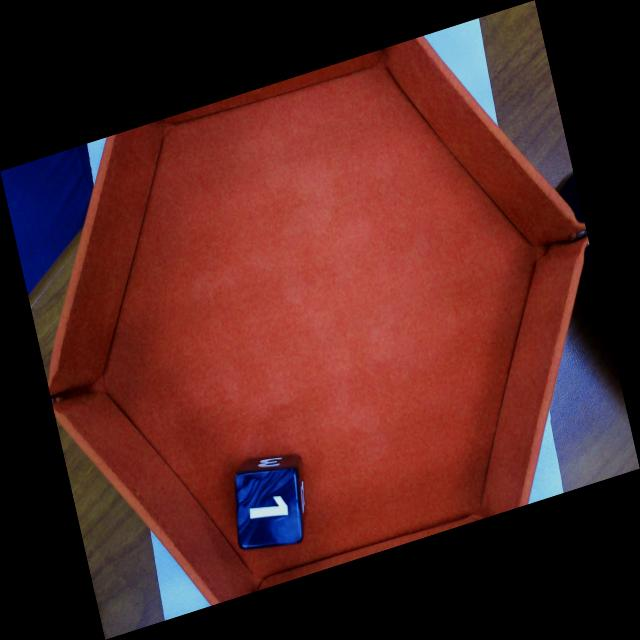dice: (230, 465, 306, 553)
